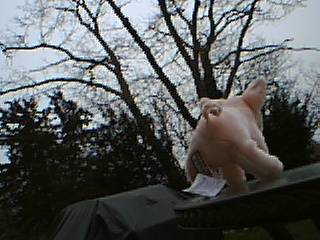piggy: (183, 75, 284, 189)
